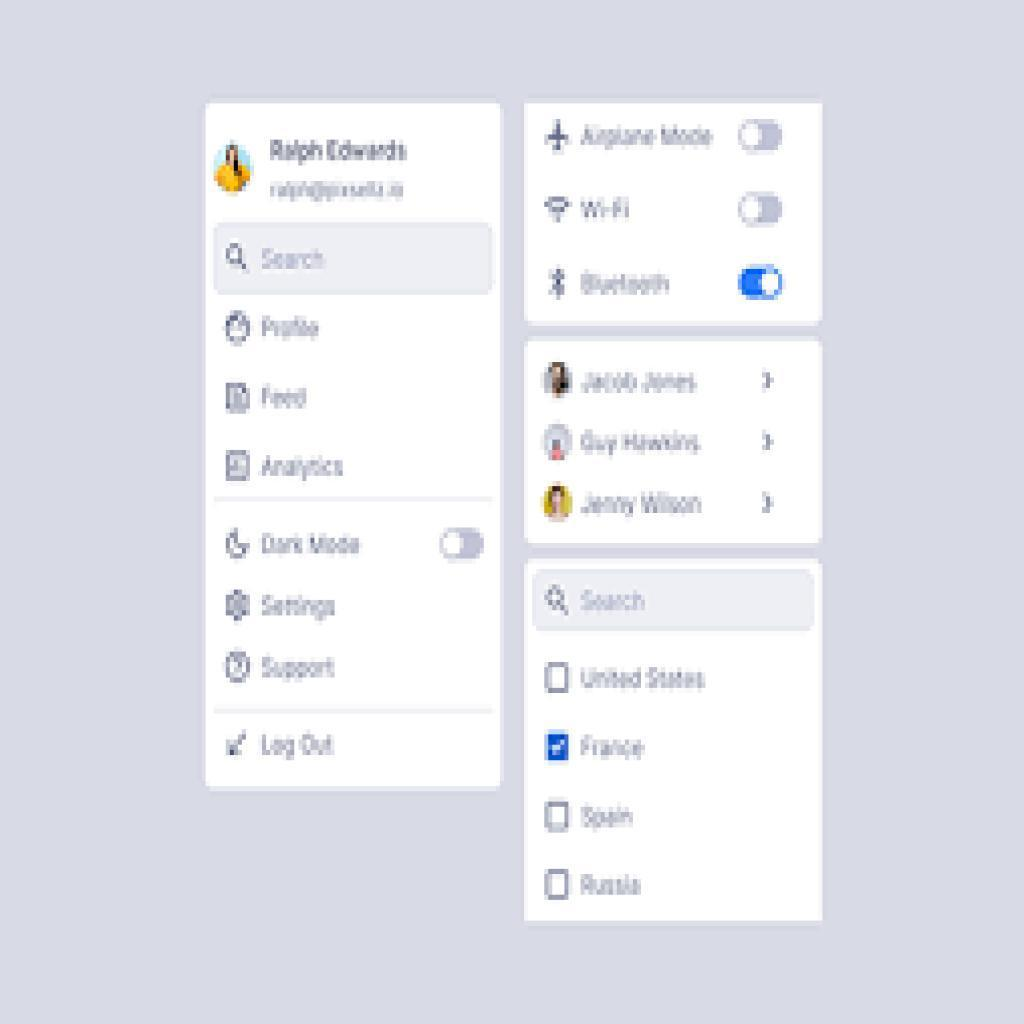checkbox: (544, 661, 572, 696), (544, 872, 572, 902), (545, 729, 570, 761), (546, 800, 570, 831)
icon: (223, 304, 257, 354), (223, 379, 259, 422), (541, 577, 577, 620), (540, 115, 575, 158), (225, 446, 256, 489), (223, 239, 256, 277), (541, 264, 572, 303), (225, 586, 253, 628), (222, 727, 252, 766), (542, 190, 572, 228), (225, 647, 252, 688), (226, 529, 254, 565)
input: (214, 224, 492, 295), (532, 568, 814, 628)
switch: (738, 120, 789, 156), (739, 267, 787, 303), (740, 192, 783, 228), (442, 529, 487, 563)
